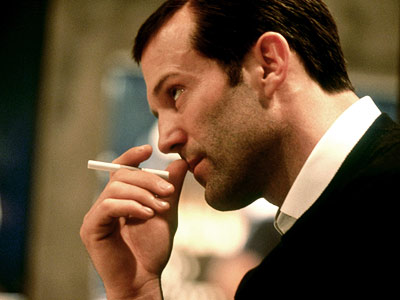cigarette: (77, 151, 176, 189)
